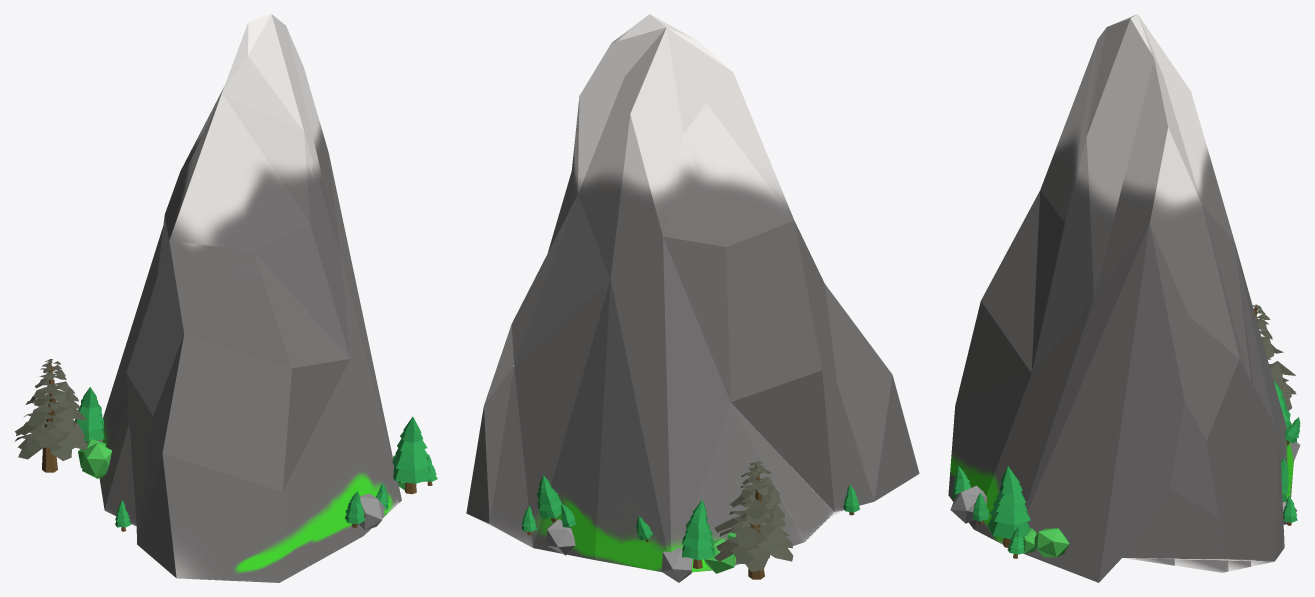
The model's file is grass_mountain.glb.
3 renders of one model, left to right at view 1: azimuth 30°, elevation 25°; view 2: azimuth 150°, elevation 25°; view 3: azimuth 270°, elevation 25°, orthographic. The views are drawn at different scales.
Parts seen in each view (by area): view 1: Cone; view 2: Cone; view 3: Cone.
Part boxes in pixels (x1,y1,x2,y2): Cone: (14, 14, 437, 582); Cone: (466, 14, 919, 582); Cone: (948, 14, 1300, 582).
Bounding box in the file's own units: 4.26 × 6.46 × 3.98.
Materials: 6 (1 with a texture image).
